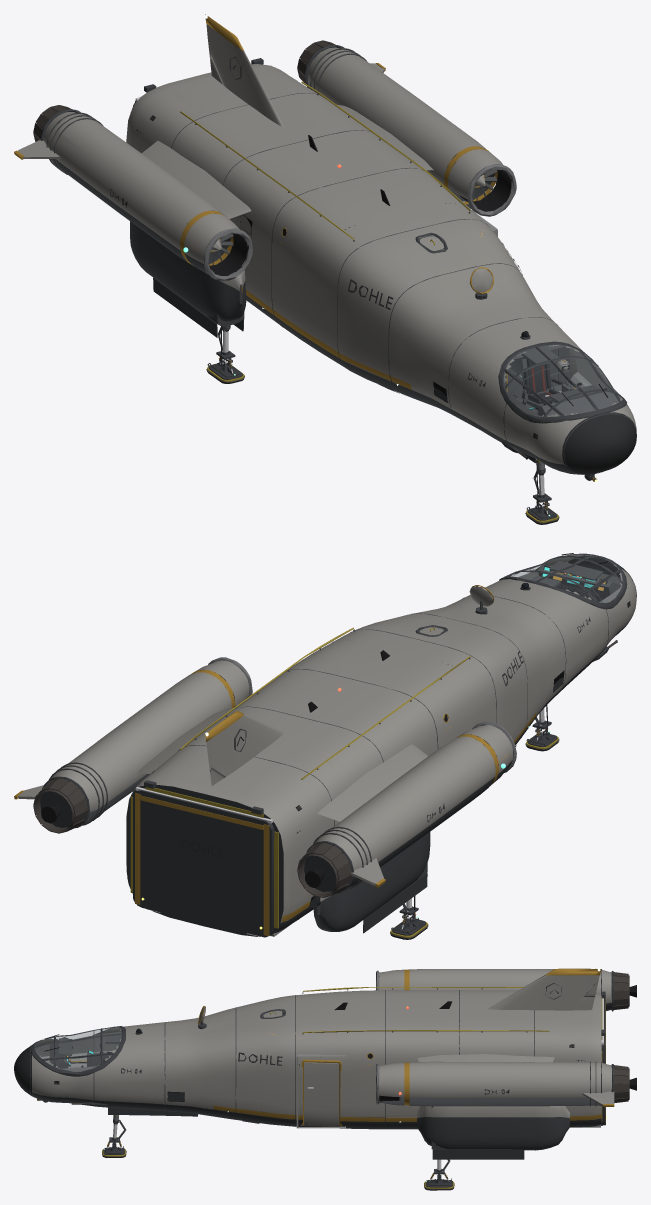
Rendered from DohleFern.glb.
The picture shows the model from 3 angles, top to bottom: view 1: azimuth 30°, elevation 25°; view 2: azimuth 150°, elevation 25°; view 3: azimuth 270°, elevation 25°; orthographic projection. The views are drawn at different scales.
Visible parts, largest first — view 1: Fahrwerkswulst links.001, Kanzelglas.001, Flosse.002, Dachluke.001, Rumpf.004, Gondel links.001, Antenne.004, Dachlukenfuge.001, Cockpit Kleinteile.001, Einlasslippe.002, Deckenpult.001, Cockpitwanne.001 (+5 smaller); view 2: Fahrwerkswulst links.001, Rampenplatte.001, Flosse.002, Duesenglocke.002, Kanzelglas.001, Dachluke.001, Griff.001, Rampenrand aussen.002, Heckrahmen.001, Glut.002, Cockpit Kleinteile.001, Dachlukenfuge.001 (+5 smaller); view 3: Fahrwerkswulst links.001, Tuer.001, Kanzelglas.001, Dachluke.001, Gondel links.001, Cockpitwanne.001, Flosse.002, Duesenglocke.002, Wulstklappe.004, Griff.001, Dachlukenfuge.001, Rumpf.004 (+5 smaller).
Part boxes in pixels (bbox=[...]): Fahrwerkswulst links.001: bbox=[43, 24, 636, 474]; Kanzelglas.001: bbox=[504, 345, 622, 416]; Flosse.002: bbox=[18, 63, 568, 372]; Dachluke.001: bbox=[40, 45, 627, 423]; Rumpf.004: bbox=[562, 412, 636, 474]; Gondel links.001: bbox=[180, 14, 497, 389]; Antenne.004: bbox=[150, 115, 606, 459]; Dachlukenfuge.001: bbox=[171, 93, 636, 474]; Cockpit Kleinteile.001: bbox=[46, 48, 608, 406]; Einlasslippe.002: bbox=[203, 164, 516, 280]; Deckenpult.001: bbox=[521, 346, 618, 416]; Cockpitwanne.001: bbox=[279, 211, 625, 454]; Fahrwerkswulst links.001: bbox=[51, 554, 636, 936]; Rampenplatte.001: bbox=[133, 790, 274, 937]; Flosse.002: bbox=[18, 586, 493, 885]; Duesenglocke.002: bbox=[33, 602, 630, 919]; Kanzelglas.001: bbox=[508, 554, 622, 602]; Dachluke.001: bbox=[42, 553, 627, 893]; Griff.001: bbox=[130, 627, 470, 934]; Rampenrand aussen.002: bbox=[135, 793, 269, 936]; Heckrahmen.001: bbox=[126, 586, 608, 936]; Glut.002: bbox=[40, 791, 336, 891]; Cockpit Kleinteile.001: bbox=[48, 553, 607, 935]; Dachlukenfuge.001: bbox=[178, 555, 636, 825]; Fahrwerkswulst links.001: bbox=[32, 969, 611, 1150]; Tuer.001: bbox=[304, 1062, 339, 1126]; Kanzelglas.001: bbox=[35, 1027, 121, 1071]; Dachluke.001: bbox=[31, 971, 613, 1117]; Gondel links.001: bbox=[213, 968, 601, 1121]; Cockpitwanne.001: bbox=[36, 1031, 600, 1128]; Flosse.002: bbox=[198, 1006, 614, 1106]; Duesenglocke.002: bbox=[37, 972, 629, 1126]; Wulstklappe.004: bbox=[432, 1149, 524, 1159]; Griff.001: bbox=[270, 987, 602, 1121]; Dachlukenfuge.001: bbox=[30, 990, 534, 1129]; Rumpf.004: bbox=[14, 1045, 31, 1095].
Bounding box in the file's own units: 8.15 × 5.49 × 16.7.
